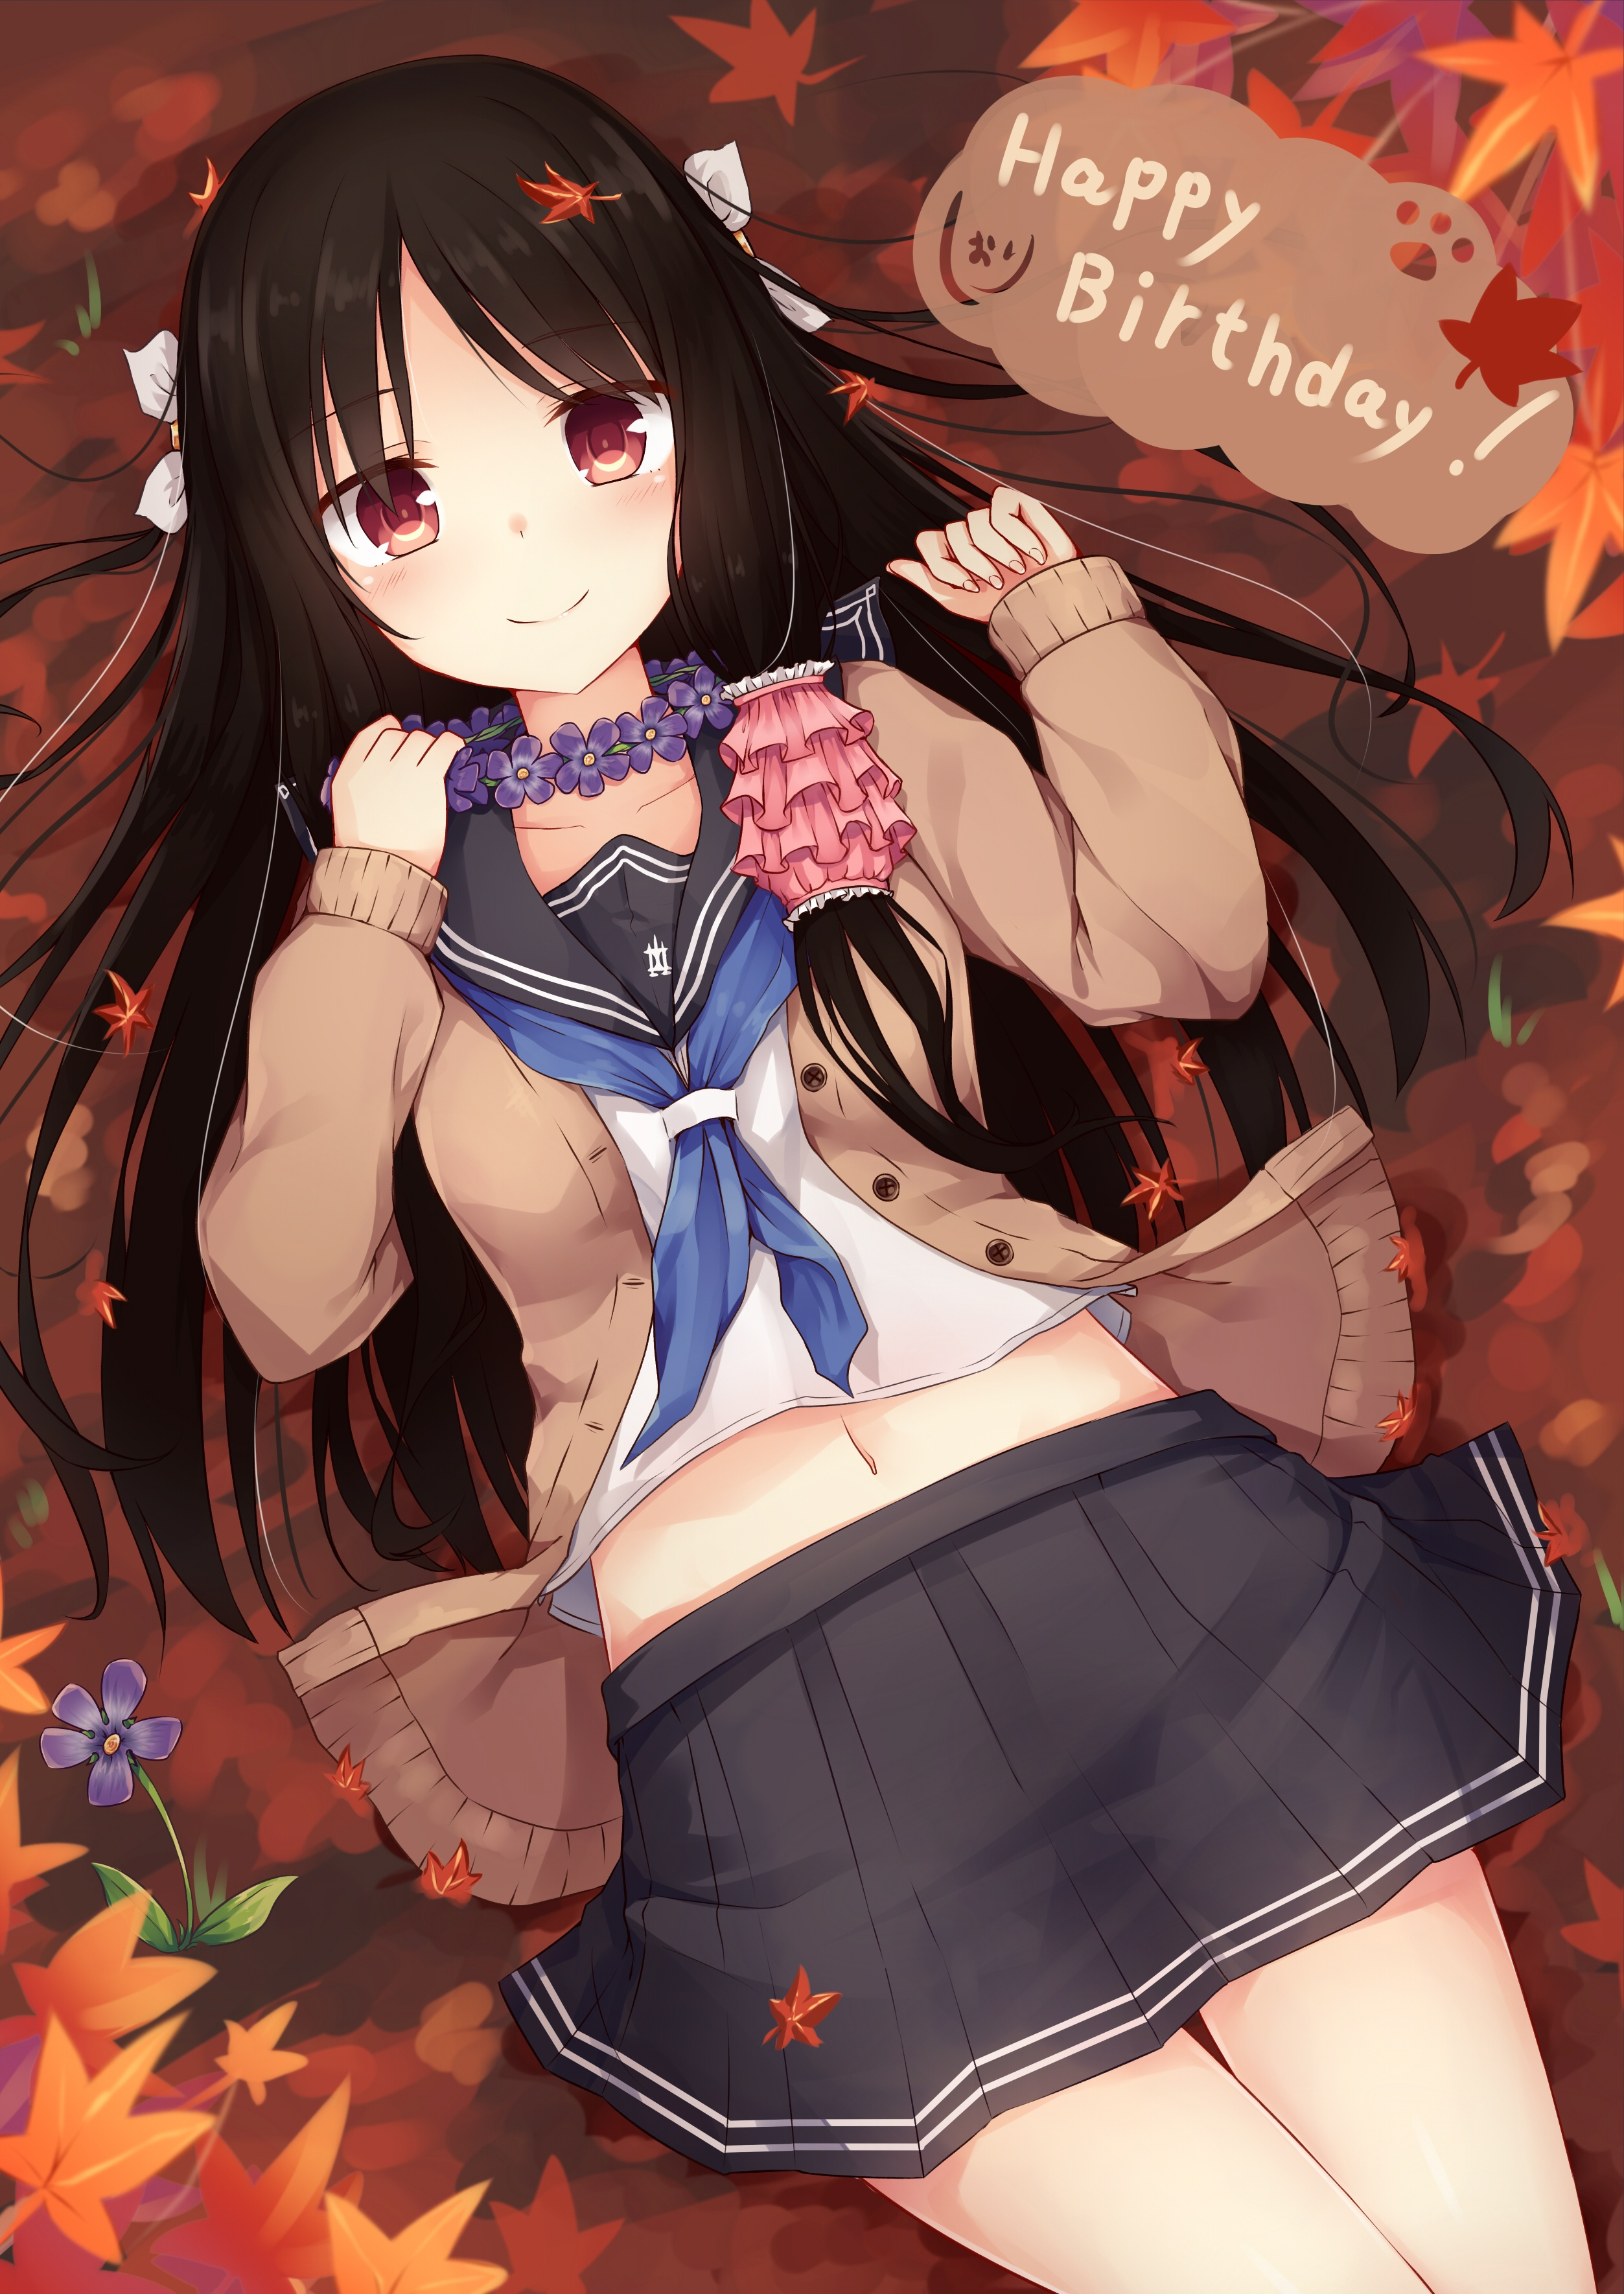纸片人正脸: (151, 49, 805, 726)
